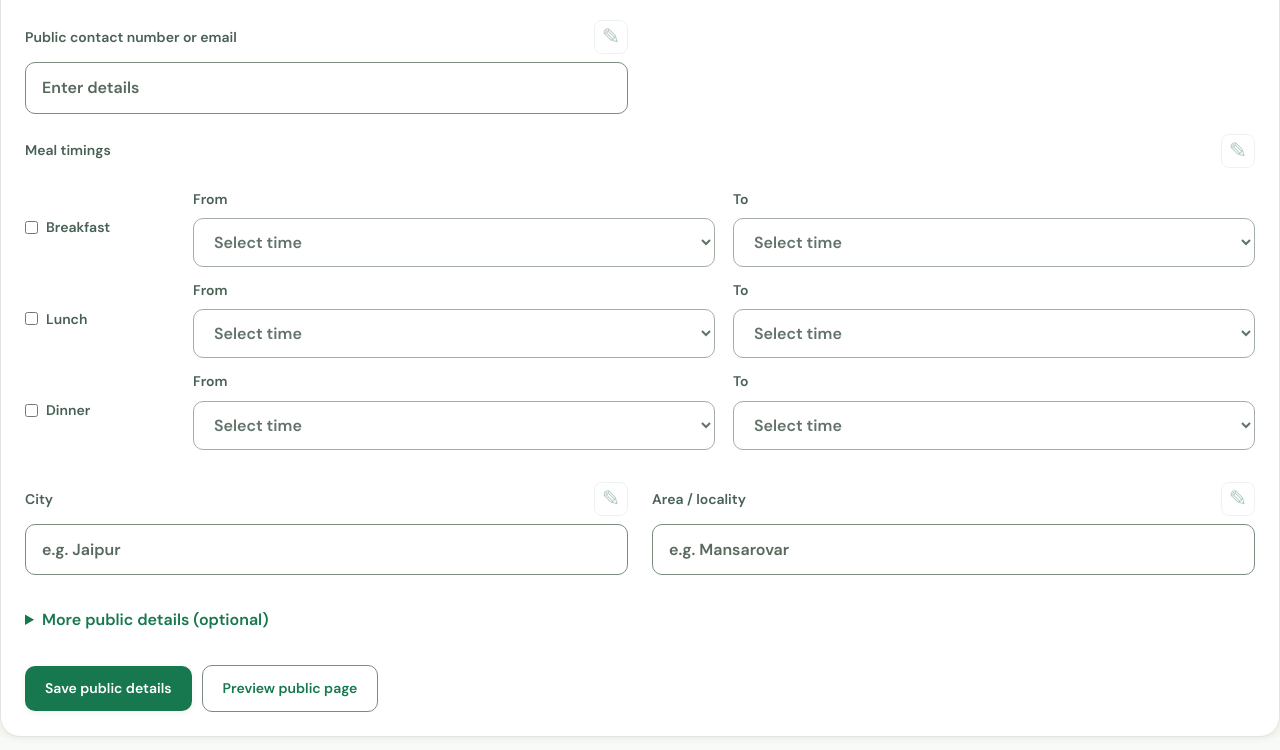
Test case: keeps only starting profile details visible and retains optional fields
(page scrolled)
Expected: the field labelled "Public contact number or email" is shown, x1=25 y1=62 x2=628 y2=114
Click the heading "More public details (optional)": (155, 620) x1=42 y1=609 x2=268 y2=630
(page scrolled)
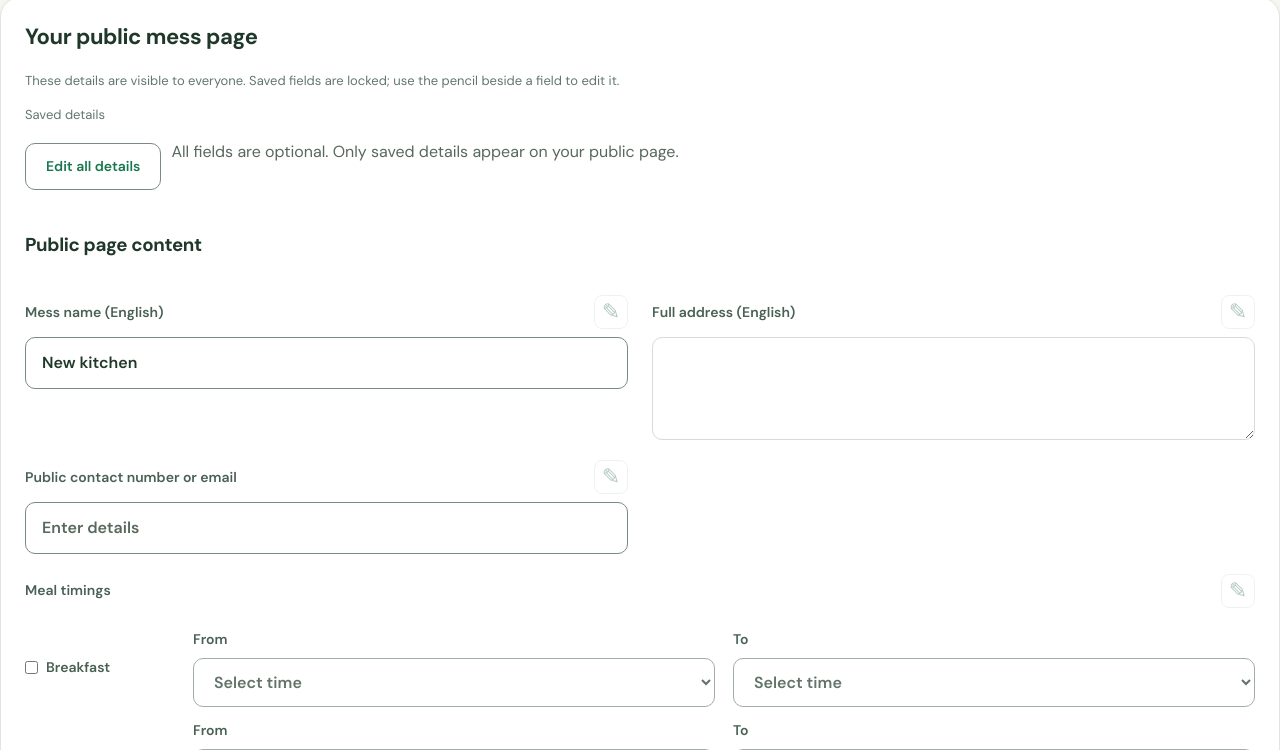
Replace the text in the field labelled "Mess name (English)" with "Draft kitchen": (326, 363) x1=25 y1=337 x2=628 y2=389
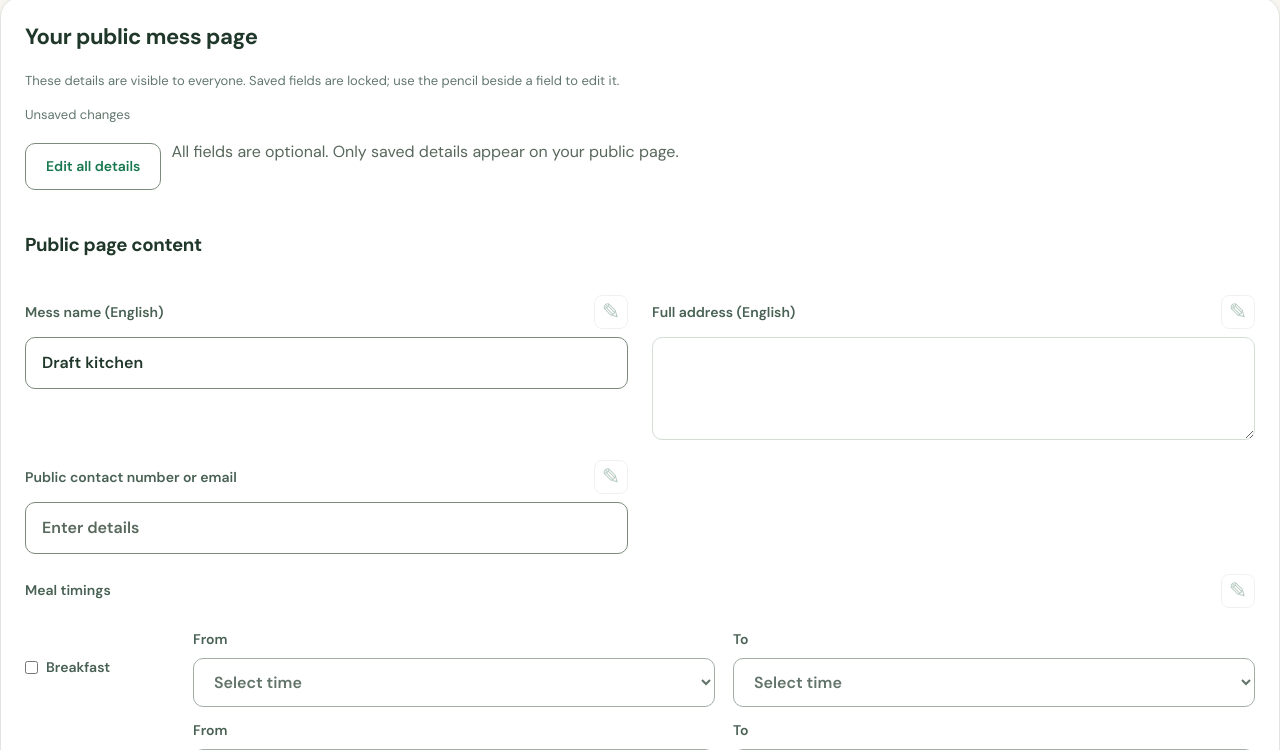
Expected: the text "Unsaved changes" is shown, x1=25 y1=106 x2=130 y2=123
